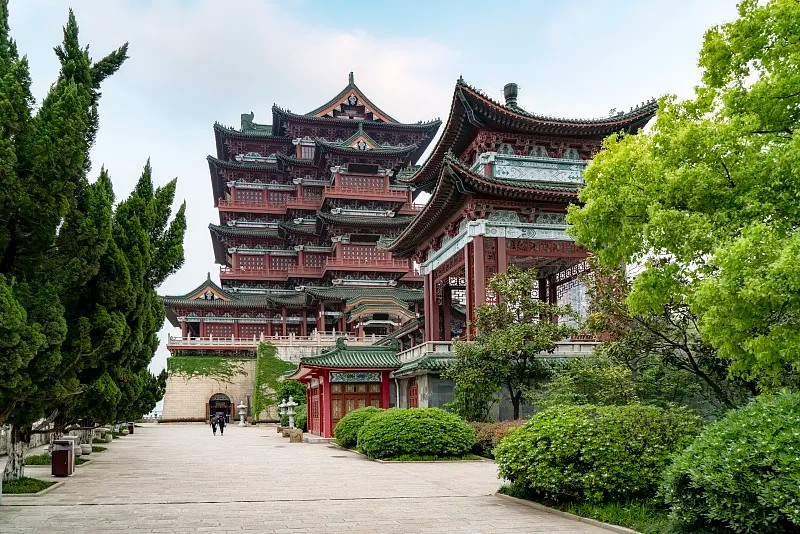Teng: (164, 72, 443, 344)
